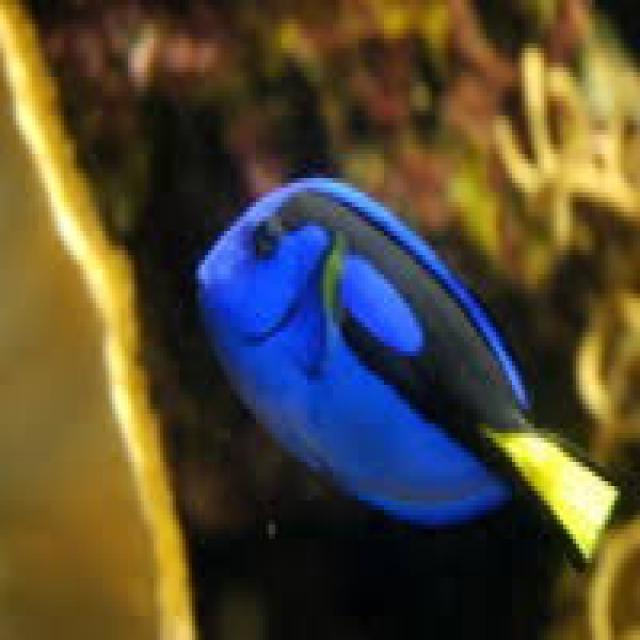TangFish: (192, 175, 616, 574)
